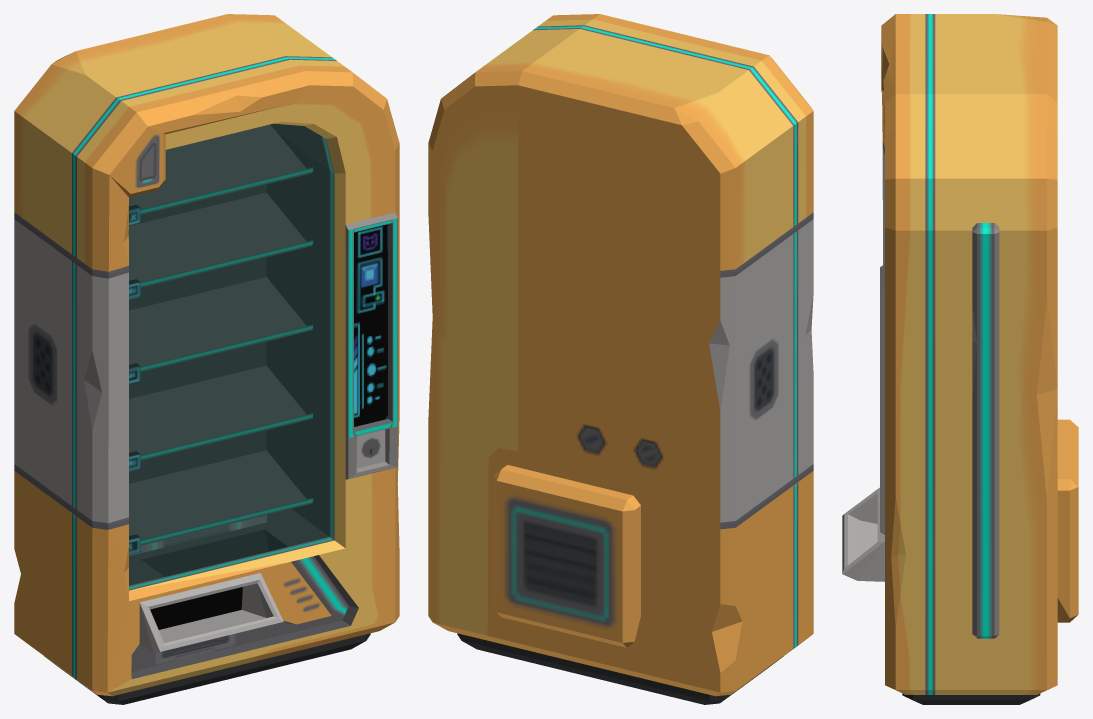
File: SM_Prop_Vending_Machine_01.fbx
The picture shows the model from 3 angles, left to right: view 1: azimuth 30°, elevation 25°; view 2: azimuth 150°, elevation 25°; view 3: azimuth 270°, elevation 25°; orthographic projection. The views are drawn at different scales.
Visible parts, largest first — view 1: SM_Prop_Vending_Machine_01; view 2: SM_Prop_Vending_Machine_01; view 3: SM_Prop_Vending_Machine_01.
Part boxes in pixels (<box>): SM_Prop_Vending_Machine_01: <box>14,14,399,704</box>; SM_Prop_Vending_Machine_01: <box>428,14,813,704</box>; SM_Prop_Vending_Machine_01: <box>842,14,1078,704</box>.
Size of the model in its own units: 130 by 232 by 85.38.
